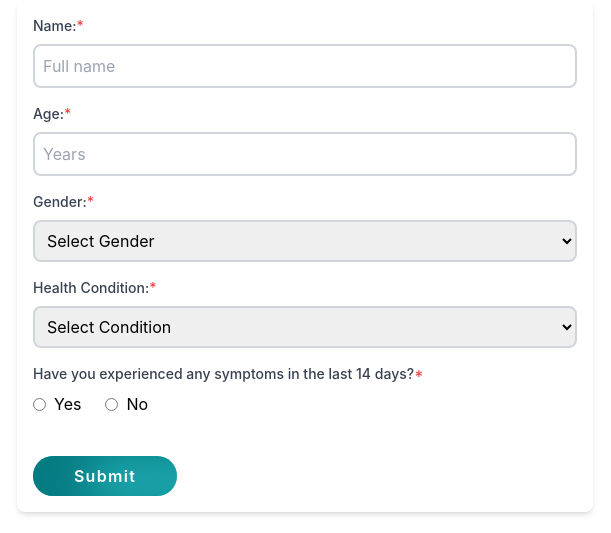
Test: Questionnaire Form › shows 'Submitting..' in submit button when form is being submitted
Type "John Doe" into the field labelled "Name:*" at [305, 66], box [33,44,577,88]
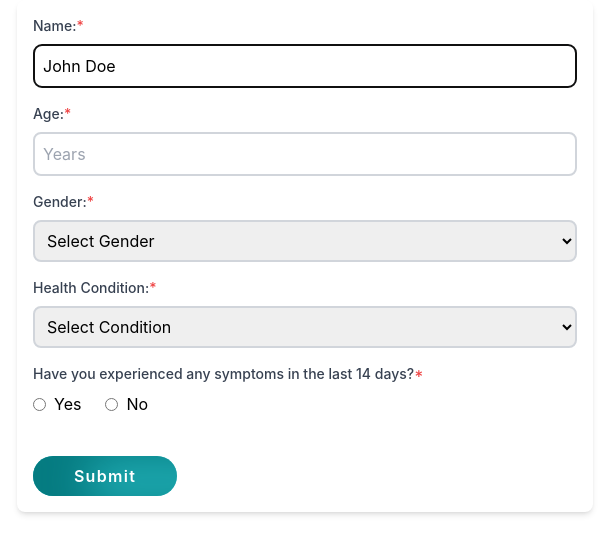
Type "30" into the number field labelled "Age:*" at [305, 154], box [33,132,577,176]
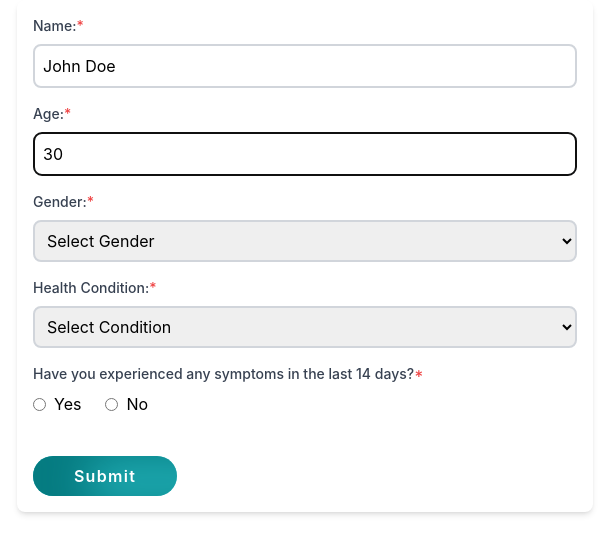
Select "Male" in the dropdown labelled "Gender:*" at [305, 241], box [33,220,577,262]
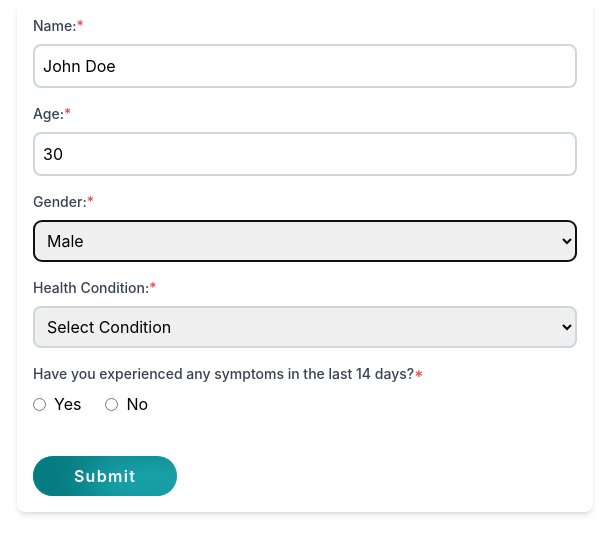
Select "Healthy" in the dropdown labelled "Health Condition:*" at [305, 327], box [33,306,577,348]
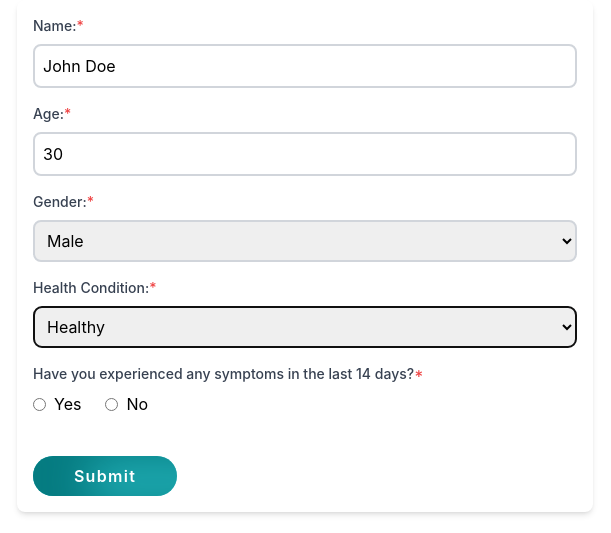
Click the radio button labelled "No" at [112, 404], box [105,398,118,410]
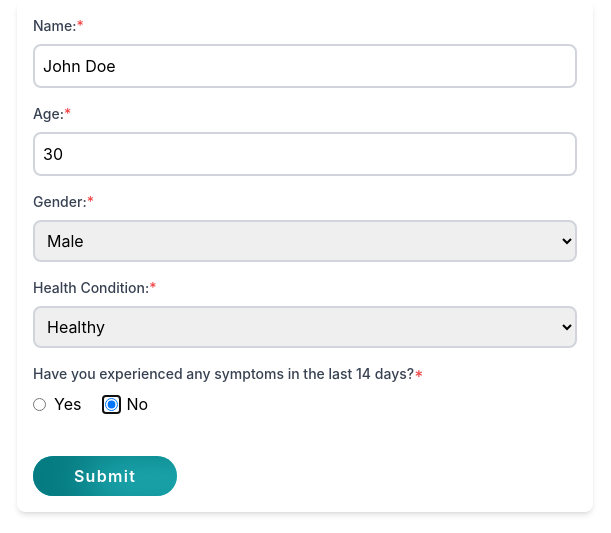
Click the button "Submit" at [105, 476], box [33,456,177,496]
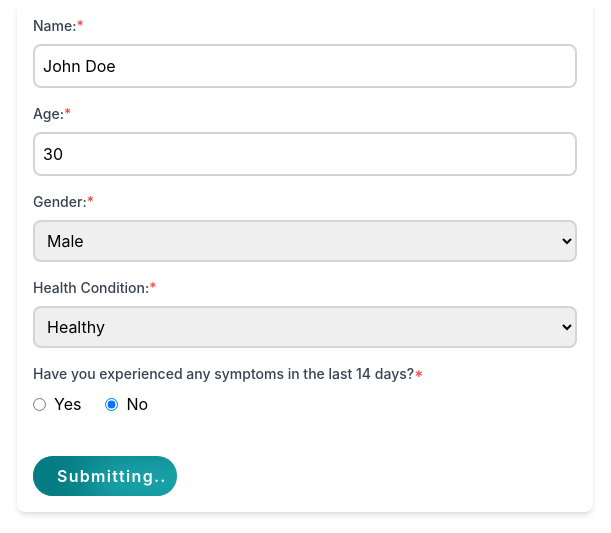
Expected: the button "Submitting.." is shown, [33,456,177,496]
